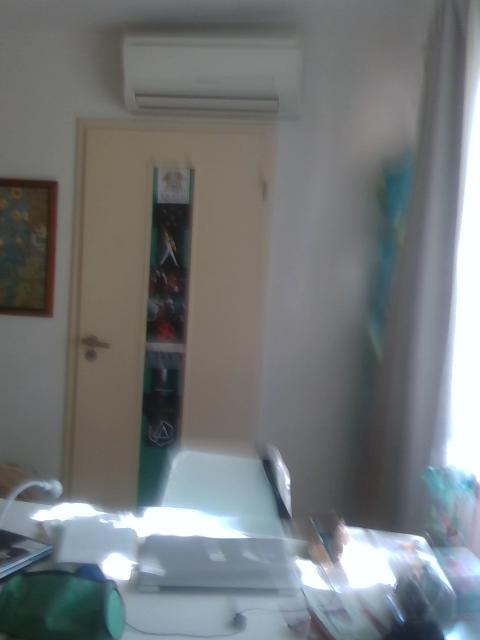door: (71, 126, 266, 496)
